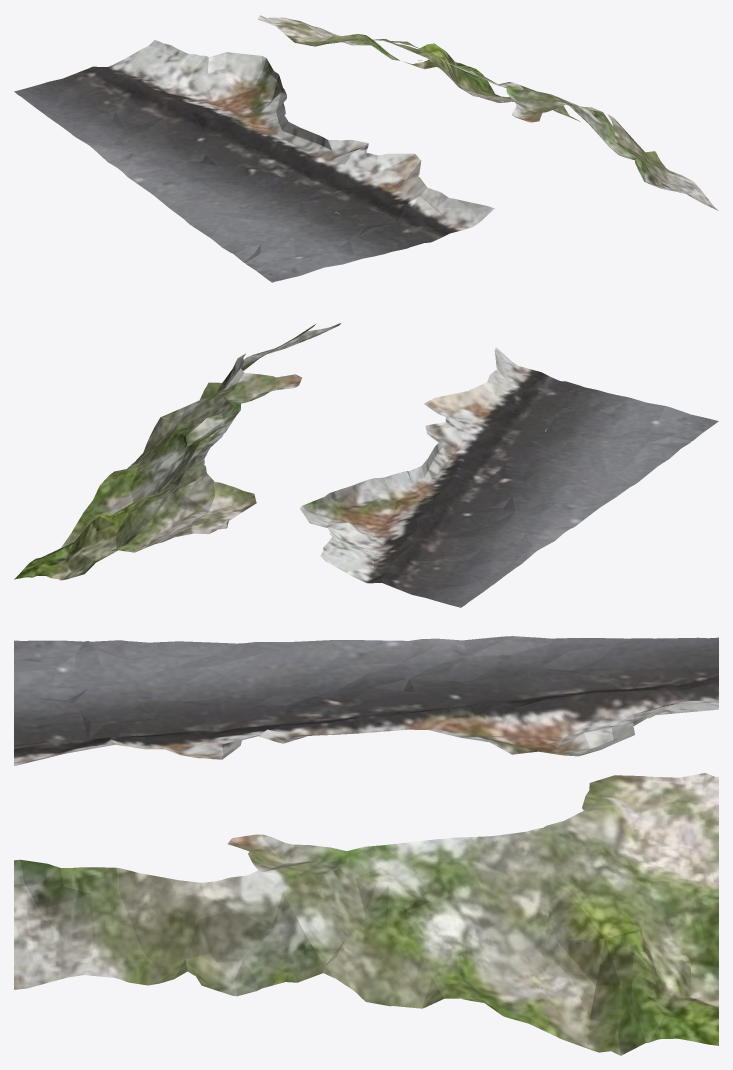
3 renders of one model, top to bottom at view 1: azimuth 30°, elevation 25°; view 2: azimuth 150°, elevation 25°; view 3: azimuth 270°, elevation 25°, orthographic. The views are drawn at different scales.
Bounding box in the file's own units: 2.95 × 0.6661 × 2.95.
Materials: 2 (2 with a texture image).
